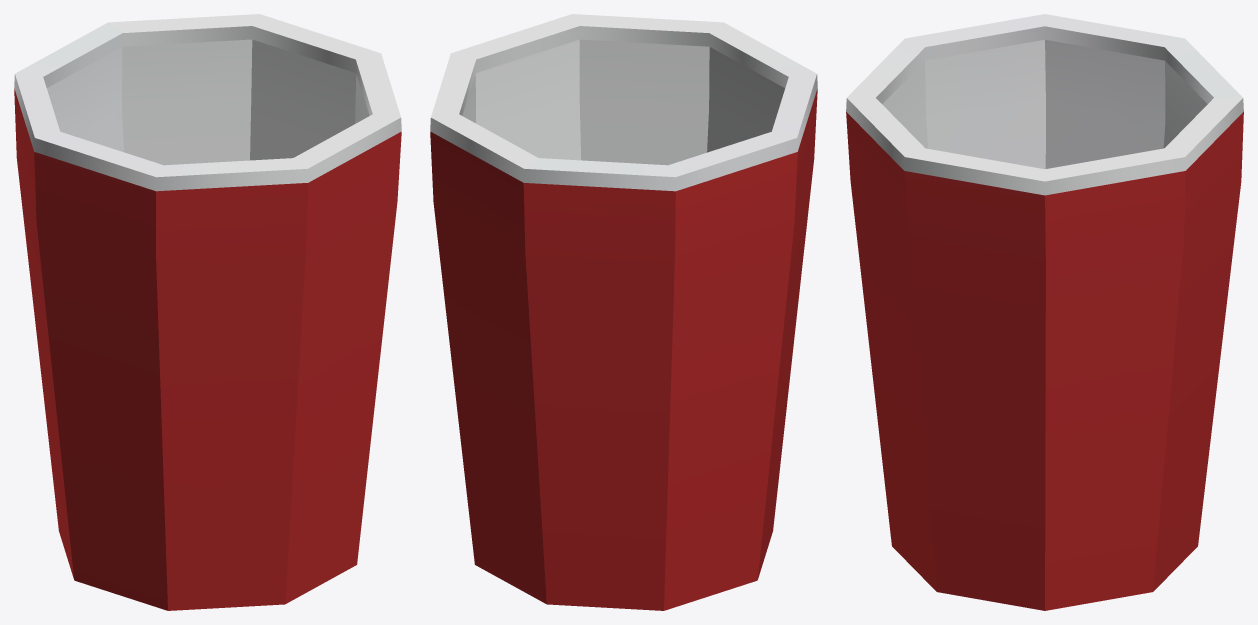
File: Cup.fbx
The picture shows the model from 3 angles, left to right: view 1: azimuth 30°, elevation 25°; view 2: azimuth 150°, elevation 25°; view 3: azimuth 270°, elevation 25°; orthographic projection.
Parts seen in each view (by area): view 1: Cup; view 2: Cup; view 3: Cup.
Boxes of the visible parts, bbox=[...] form: Cup: bbox=[14, 14, 401, 610]; Cup: bbox=[430, 14, 817, 610]; Cup: bbox=[846, 14, 1243, 610].
Bounding box in the file's own units: 23.4 × 29.1 × 23.4.
